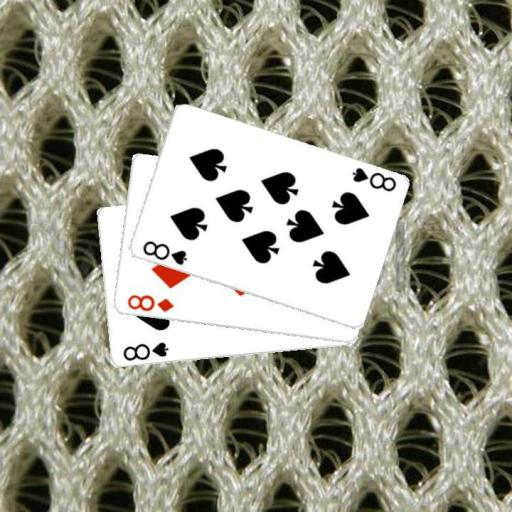8D: (124, 292, 175, 314)
8S: (139, 238, 189, 267), (349, 165, 398, 194), (119, 339, 170, 363)
